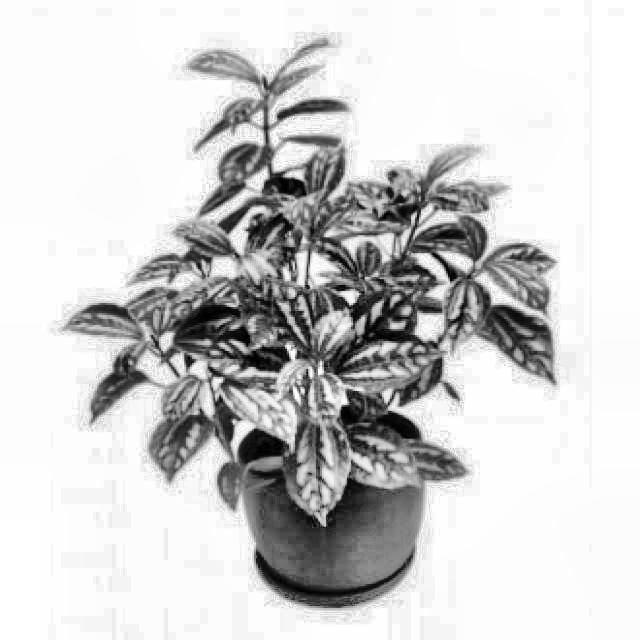plants: (51, 31, 566, 514)
